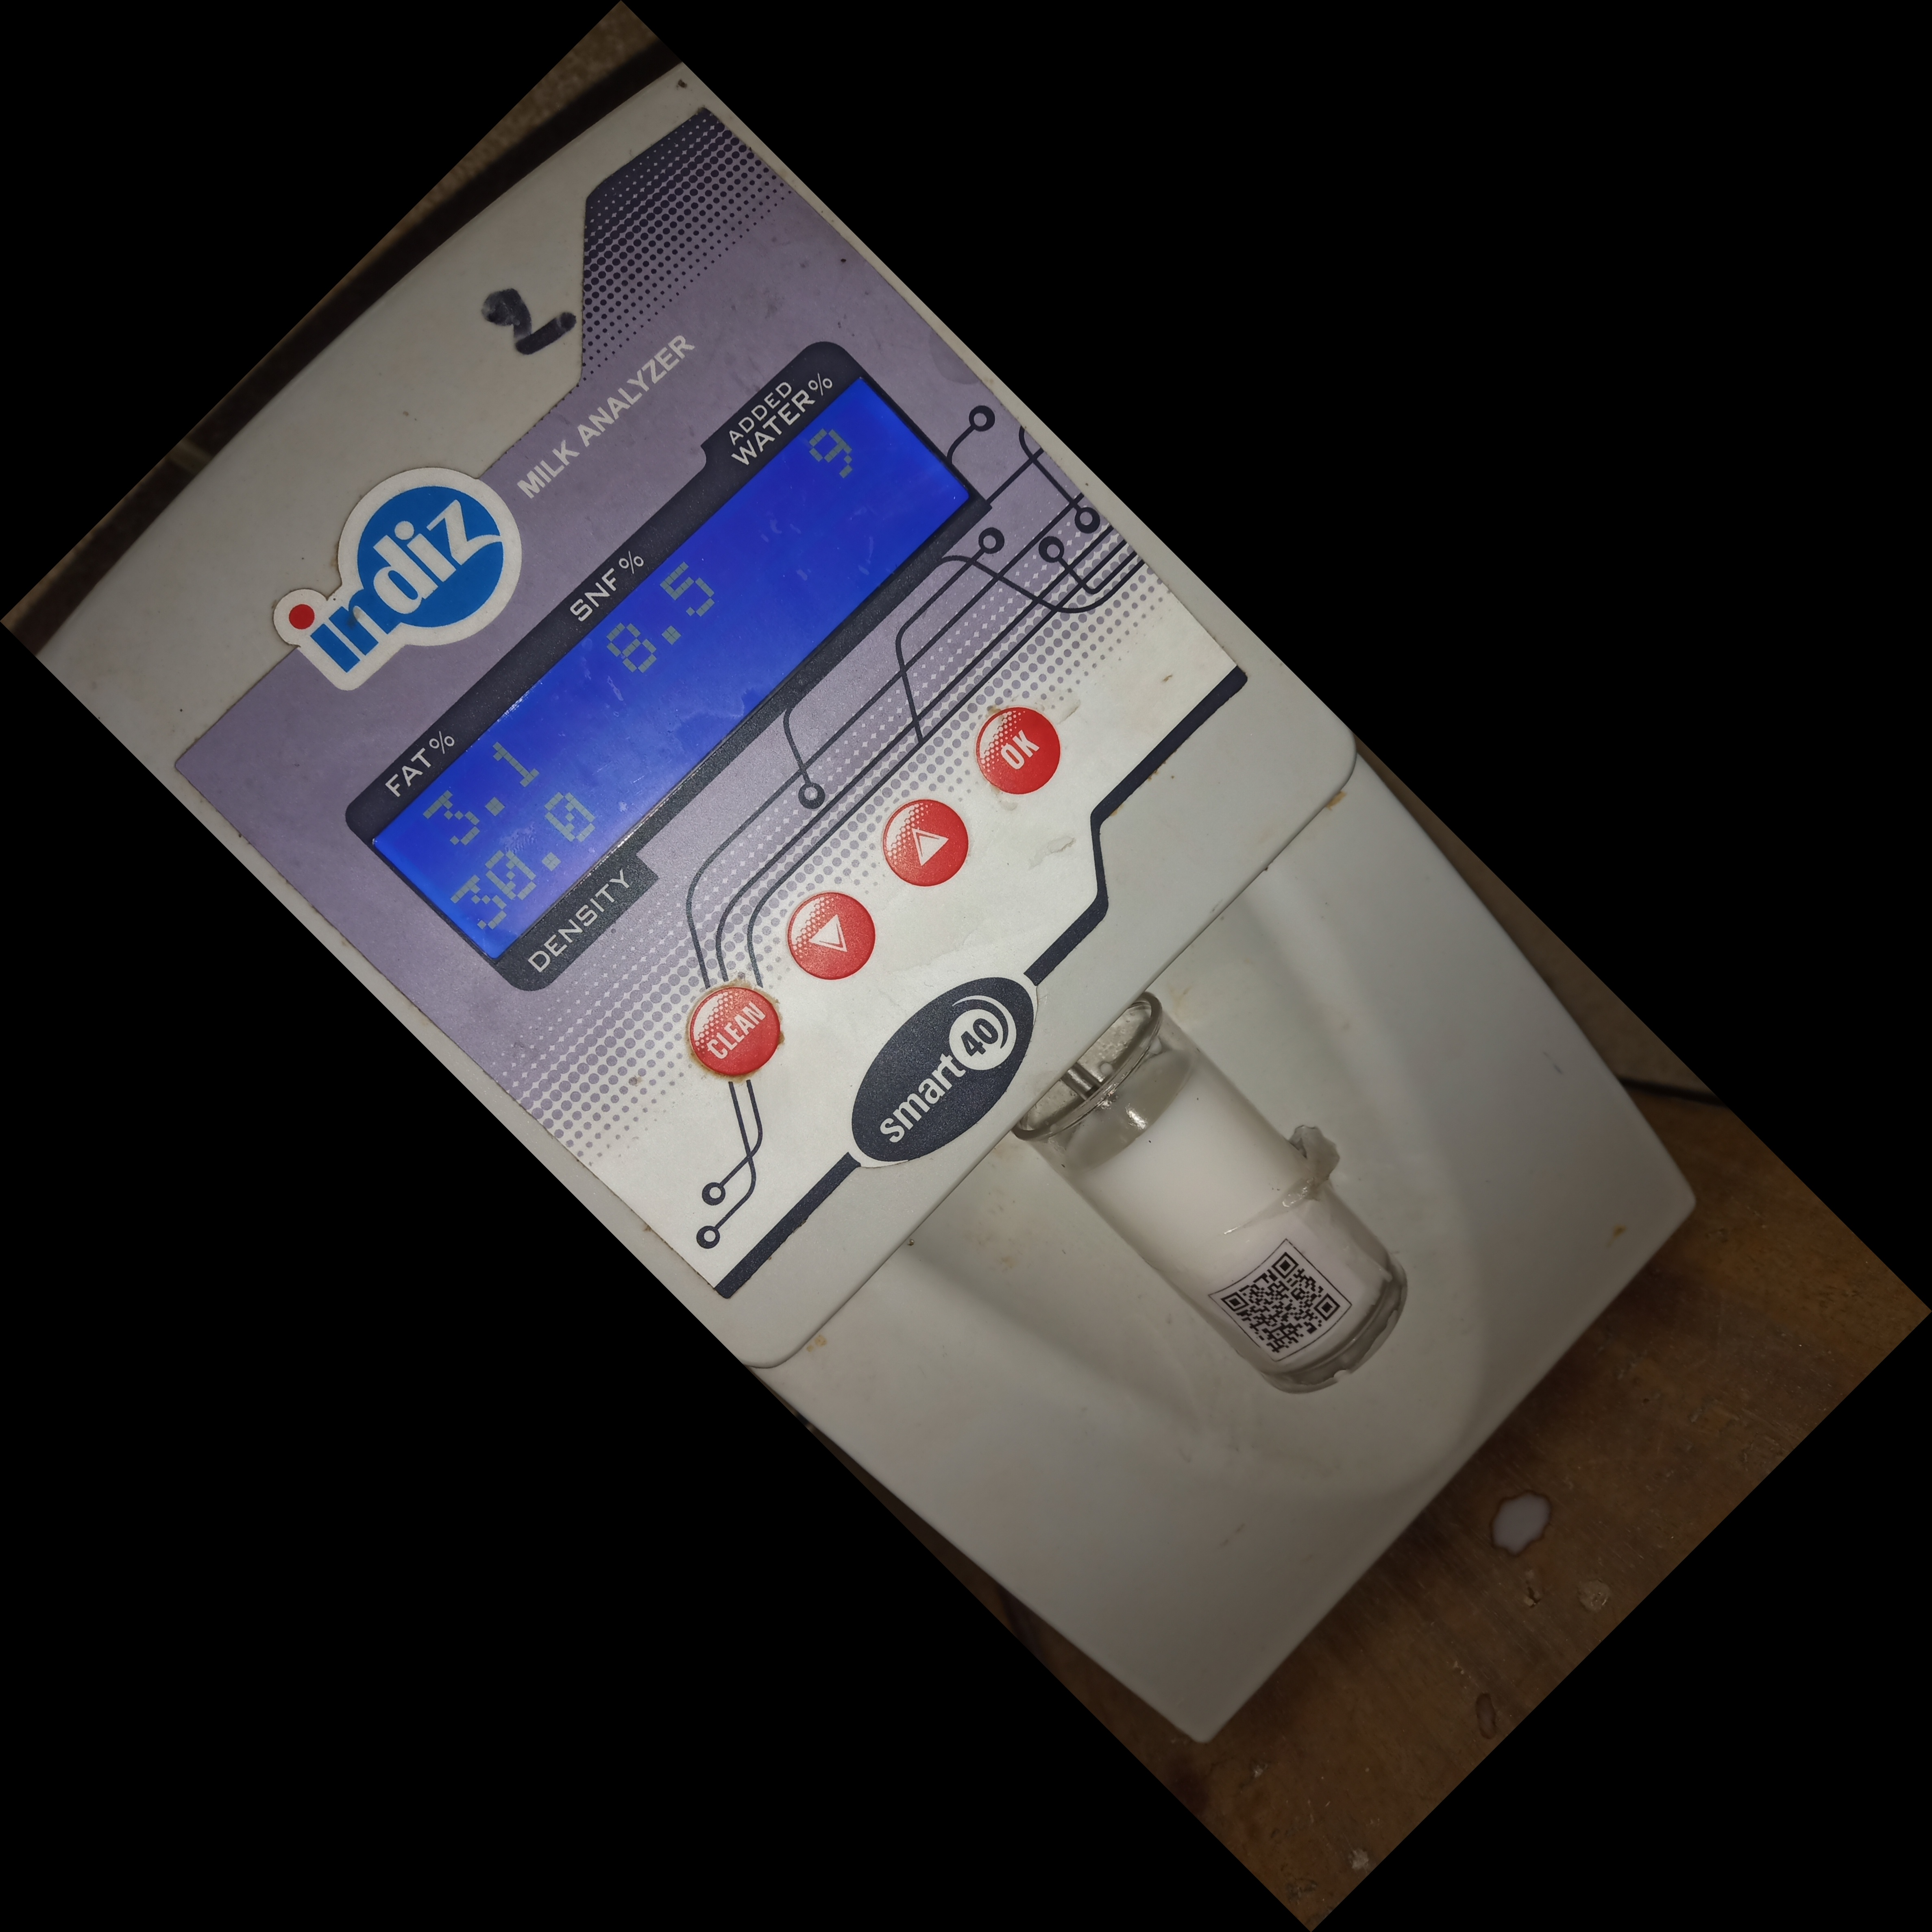lcd: (341, 338, 996, 1010)
qr: (1208, 1223, 1355, 1378)
